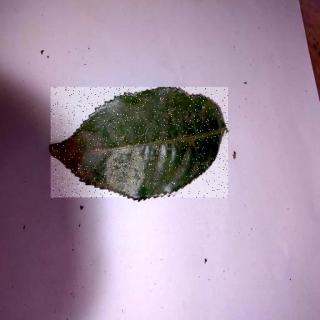Anthracnose: (52, 88, 229, 198)
